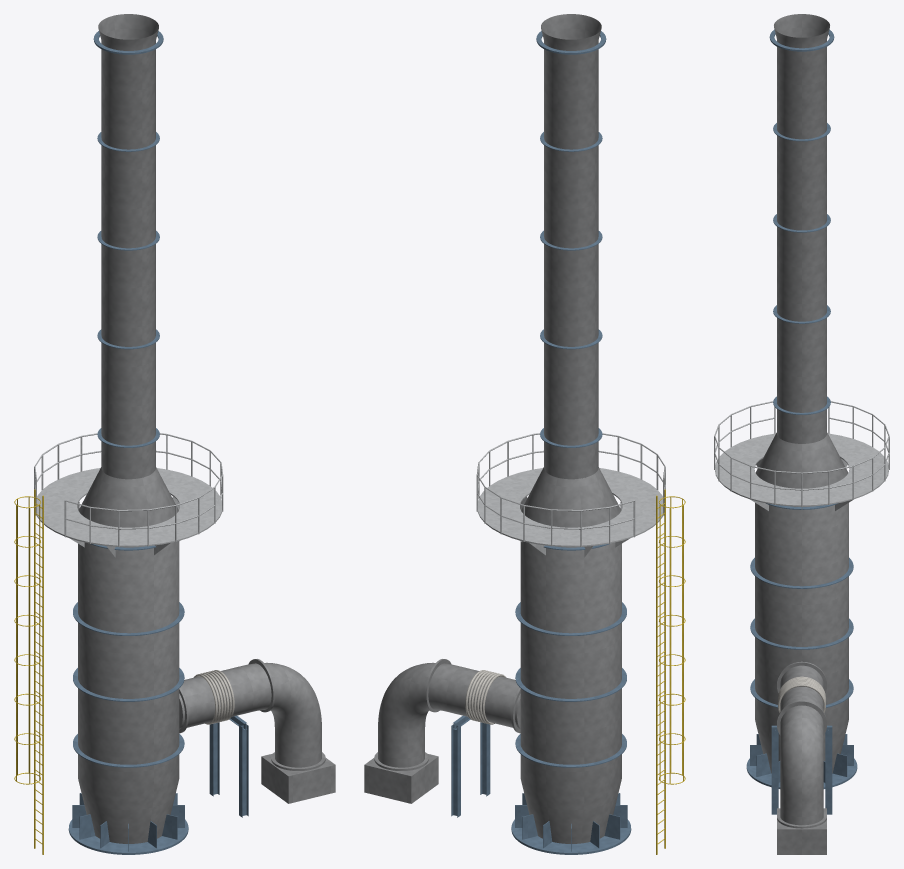
Rendered from stack-silencer.glb.
3 renders of one model, left to right at view 1: azimuth 30°, elevation 25°; view 2: azimuth 150°, elevation 25°; view 3: azimuth 270°, elevation 25°, orthographic. The views are drawn at different scales.
Parts seen in each view (by area): view 1: SilencerBody, Stack, InletDuct&Elbow, Platform&Handrail, CagedLadder, StiffenerRings, BaseAssembly, DuctSupport, ExpansionJoint; view 2: SilencerBody, Stack, InletDuct&Elbow, Platform&Handrail, CagedLadder, StiffenerRings, BaseAssembly, DuctSupport, ExpansionJoint; view 3: SilencerBody, Stack, InletDuct&Elbow, Platform&Handrail, StiffenerRings, BaseAssembly, DuctSupport, ExpansionJoint.
Boxes of the visible parts, x1,y1,x2,y2 form: SilencerBody: (78,467,179,843); Stack: (98,14,158,479); InletDuct&Elbow: (179,659,335,803); Platform&Handrail: (34,433,223,557); CagedLadder: (14,489,43,854); StiffenerRings: (73,31,184,767); BaseAssembly: (68,793,188,854); DuctSupport: (209,715,248,817); ExpansionJoint: (194,670,234,724); SilencerBody: (520,467,621,843); Stack: (541,14,601,479); InletDuct&Elbow: (364,659,520,803); Platform&Handrail: (476,433,665,557); CagedLadder: (656,489,685,854); StiffenerRings: (515,31,626,767); BaseAssembly: (511,793,631,854); DuctSupport: (451,715,490,817); ExpansionJoint: (465,670,505,724); SilencerBody: (755,432,848,773); Stack: (774,14,829,443); InletDuct&Elbow: (777,661,826,854); Platform&Handrail: (714,401,889,516); StiffenerRings: (750,29,853,707); BaseAssembly: (746,734,857,788); DuctSupport: (771,725,832,814); ExpansionJoint: (778,676,825,712).
Bounding box in the file's own units: 9.73 × 24.4 × 5.24.
5 materials, 5 textured.
